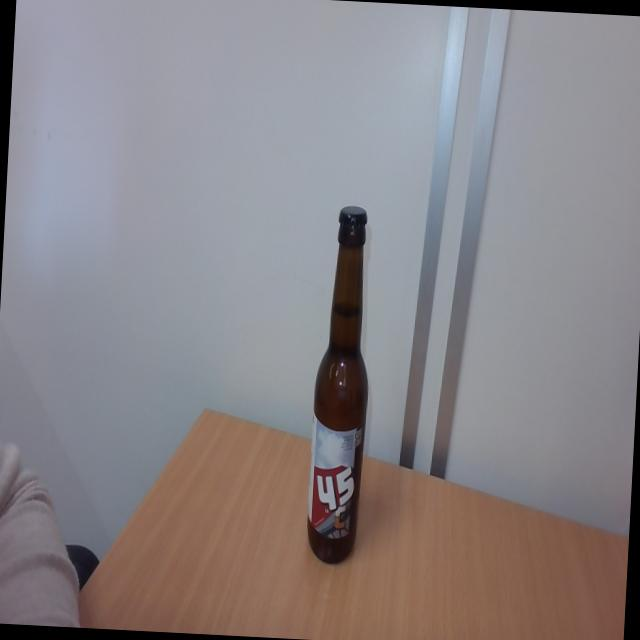Bottle: (304, 230, 376, 563)
Cap: (337, 202, 368, 235)
Label: (306, 420, 364, 540)
